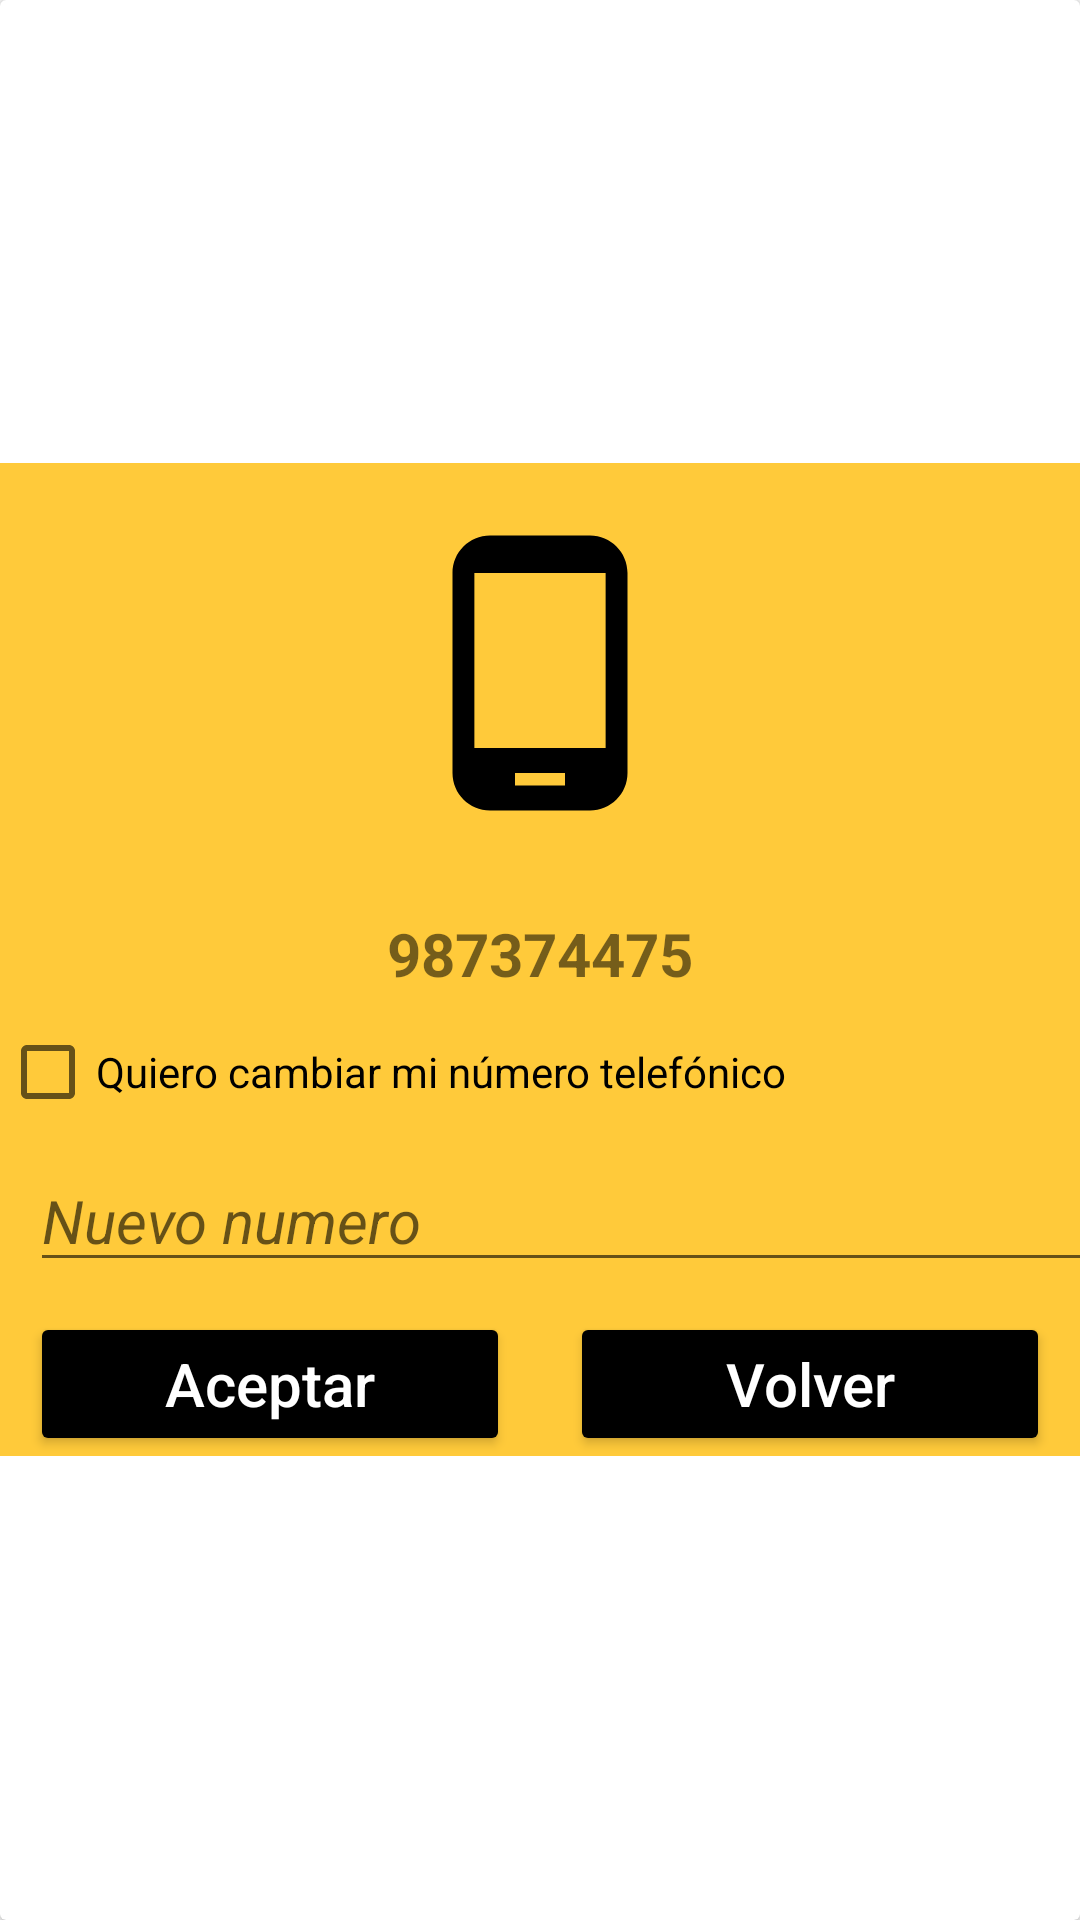

Named icons in this screenshot (1080px×1920px) and their bounding boxes, detection(x1, y1, x2, y2):
telefono: detection(452, 535, 628, 811)
